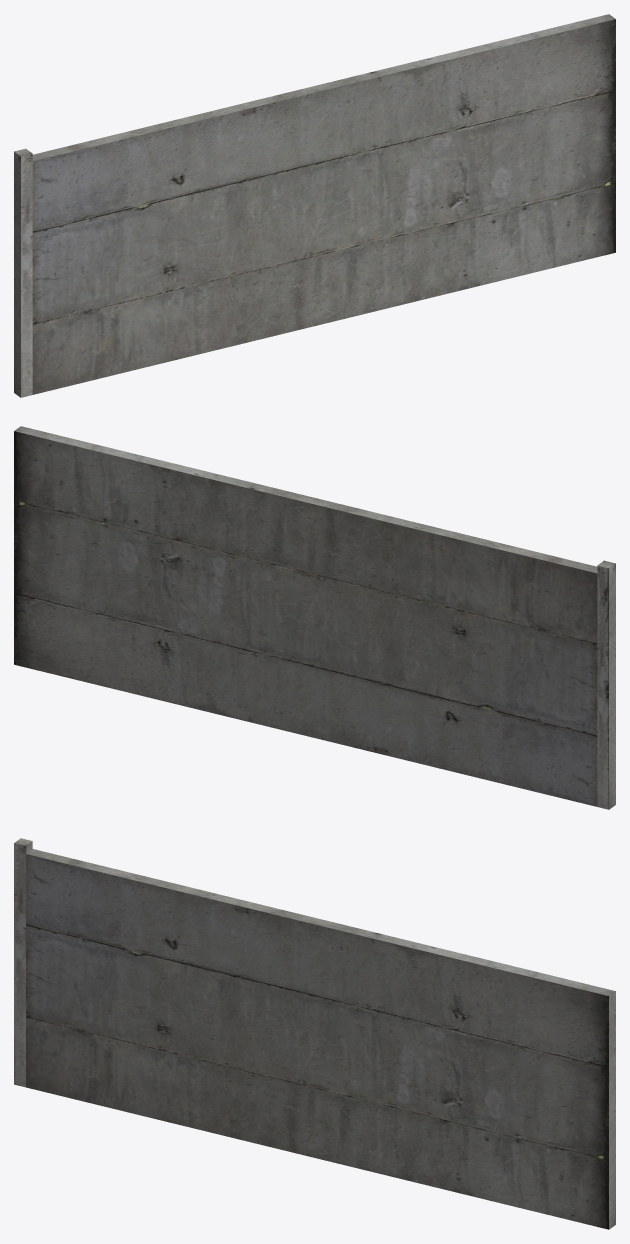
The model's file is xTraUrgent Fence.glb.
3 views of the same model, one above another, from view 1: azimuth 30°, elevation 25°; view 2: azimuth 150°, elevation 25°; view 3: azimuth 330°, elevation 25° (orthographic).
Parts seen in each view (by area): view 1: fence; view 2: fence; view 3: fence.
Part boxes in pixels (x1=…): fence: x1=14, y1=14, x2=615, y2=397; fence: x1=14, y1=426, x2=615, y2=809; fence: x1=14, y1=838, x2=615, y2=1229.
Size of what is drawn, in the model's own units: 20 by 7.75 by 0.4.
Materials: 1 (1 with a texture image).
